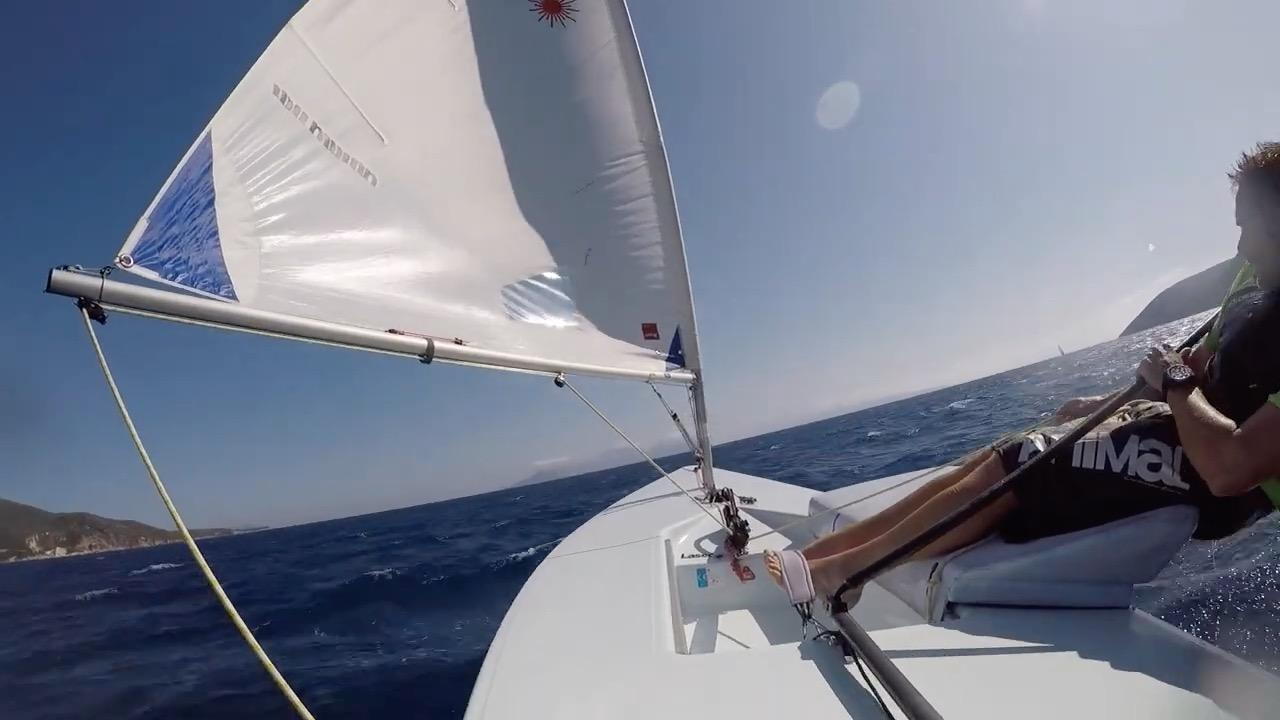boat: (47, 0, 1280, 720)
land: (502, 437, 694, 489)
person: (796, 143, 1280, 617)
sea: (0, 458, 684, 720), (714, 312, 1214, 491), (1137, 511, 1280, 672)
sky: (101, 0, 1280, 532), (0, 0, 309, 529)
